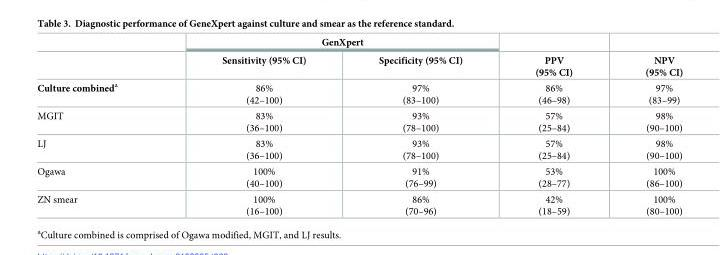table: (36, 36, 682, 216)
table column: (169, 36, 341, 216), (341, 36, 498, 216), (36, 36, 169, 216), (498, 36, 608, 216), (608, 36, 682, 216)
table column header: (36, 36, 682, 79)
table row: (36, 50, 682, 79), (36, 79, 682, 107), (36, 107, 682, 135), (36, 135, 682, 163), (36, 163, 682, 191), (36, 191, 682, 216), (36, 36, 682, 50)
table spanning cell: (498, 36, 608, 79), (169, 36, 498, 50), (608, 36, 682, 79)
